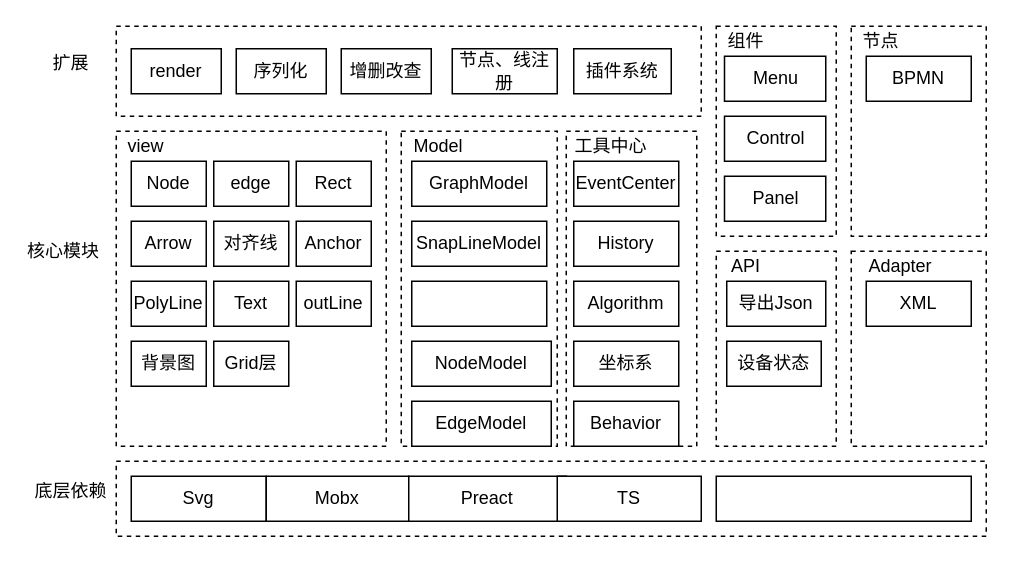
This 1013x563 diagram has some shape labels left out. Each missing label, with the centre of its shape:
TransformModel: the point at 478,303
WebSocket: the point at 843,498
